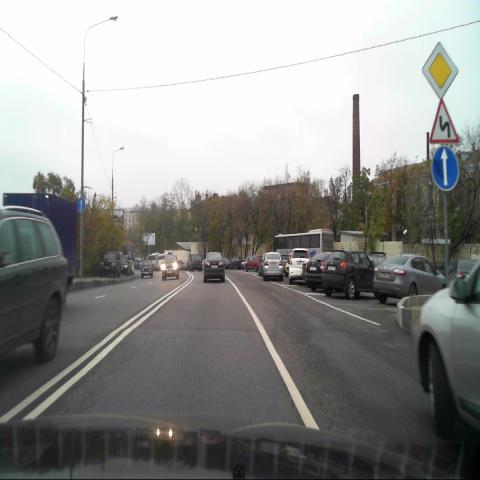1_12_2: (427, 97, 460, 144)
